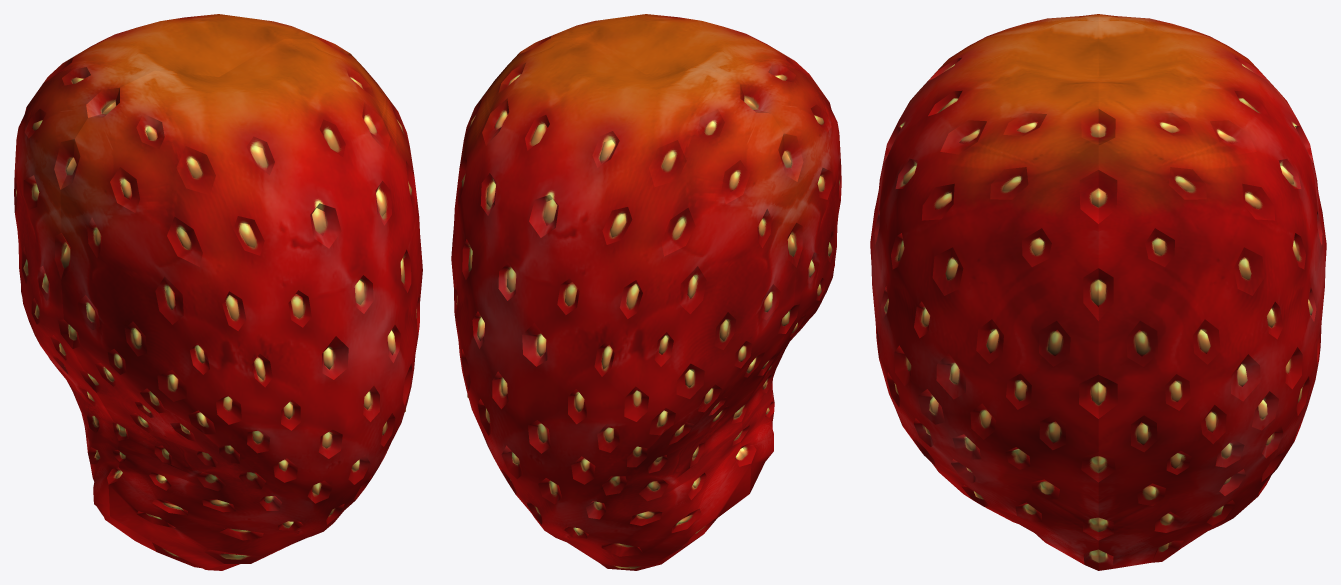
The model's file is mFraise2Outline.FBX.
3 renders of one model, left to right at view 1: azimuth 30°, elevation 25°; view 2: azimuth 150°, elevation 25°; view 3: azimuth 270°, elevation 25°, orthographic. The views are drawn at different scales.
Parts seen in each view (by area): view 1: Fraise_Positif_02_OUTLINE; view 2: Fraise_Positif_02_OUTLINE; view 3: Fraise_Positif_02_OUTLINE.
Part boxes in pixels (box(x1,y1,x2,y2)): Fraise_Positif_02_OUTLINE: box(14, 14, 422, 570); Fraise_Positif_02_OUTLINE: box(451, 14, 841, 570); Fraise_Positif_02_OUTLINE: box(870, 14, 1326, 570).
Size of the model in its own units: 0.9159 by 1.42 by 1.16.
